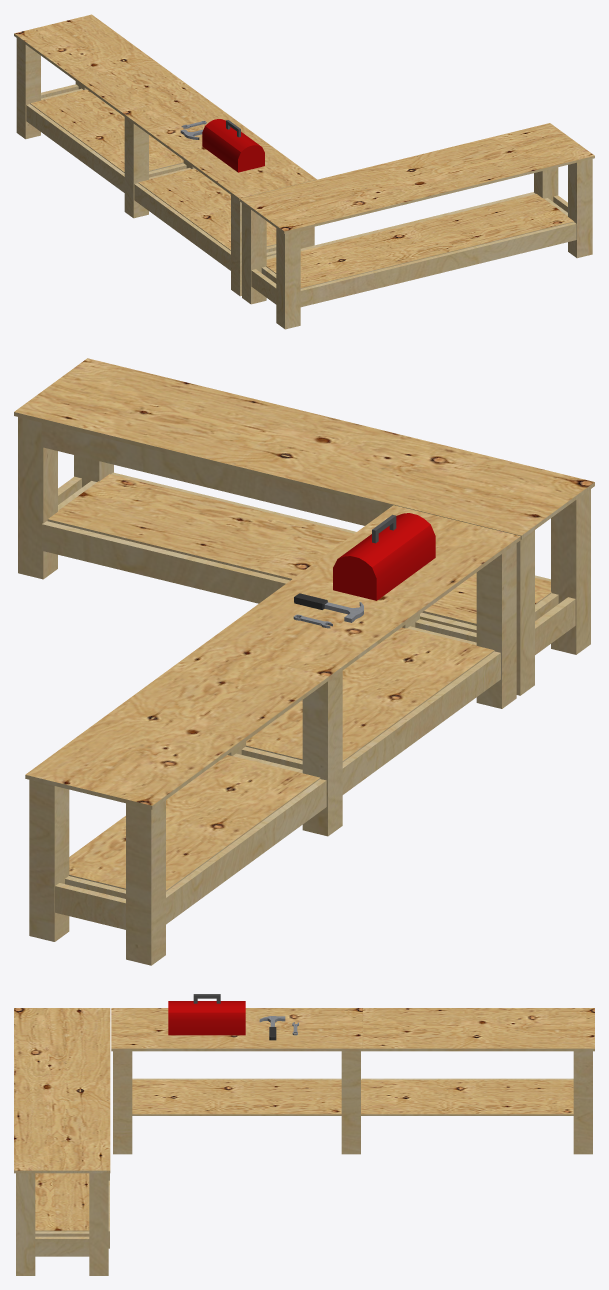
File: WorkbenchSetFBX.fbx
3 renders of one model, top to bottom at view 1: azimuth 30°, elevation 25°; view 2: azimuth 150°, elevation 25°; view 3: azimuth 270°, elevation 25°, orthographic. The views are drawn at different scales.
Parts seen in each view (by area): view 1: Workbench01, Workbench02, Toolbox; view 2: Workbench02, Workbench01, Toolbox, pCube36; view 3: Workbench02, Workbench01, Toolbox.
Part boxes in pixels (x1,y1,x2,y2): Workbench01: (239,123,594,329); Workbench02: (14,14,316,296); Toolbox: (202,119,264,172); Workbench02: (25,505,520,965); Workbench01: (14,358,594,695); Toolbox: (333,513,435,600); pCube36: (294,593,363,622); Workbench02: (111,1008,594,1154); Workbench01: (14,1008,110,1275); Toolbox: (168,994,245,1035).
Size of the model in its own units: 19.95 by 8.01 by 30.11.
